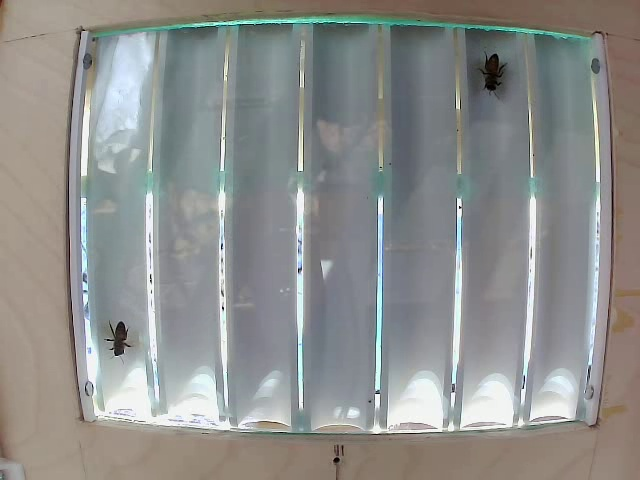bee: (93, 309, 153, 368), (467, 59, 515, 100)
